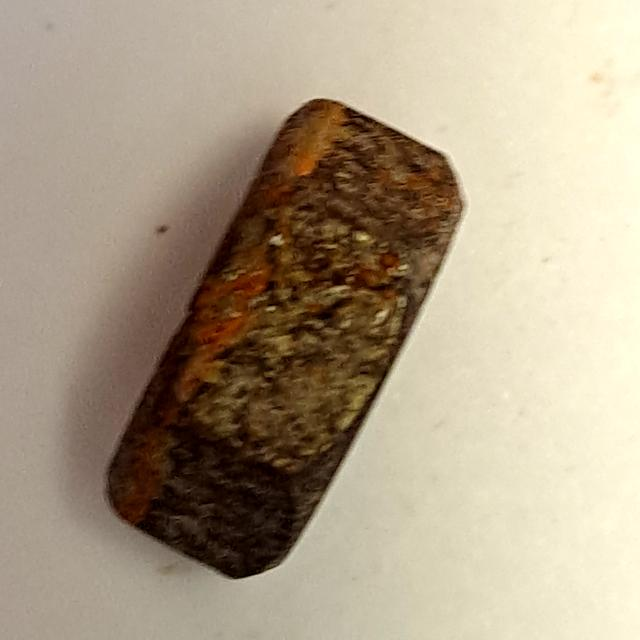Rust: (87, 87, 466, 589)
